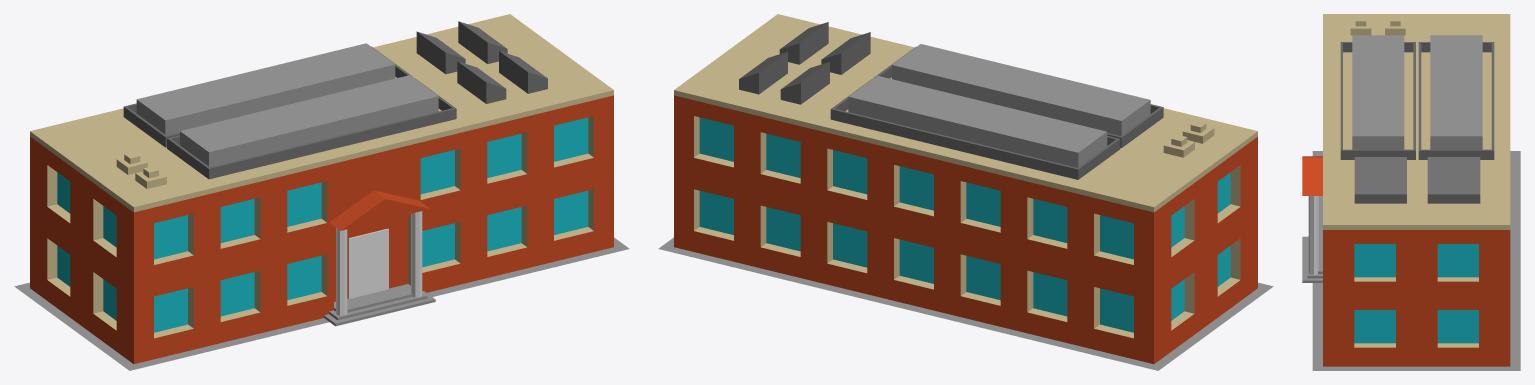
The model's file is brick-large.fbx.
The picture shows the model from 3 angles, left to right: view 1: azimuth 30°, elevation 25°; view 2: azimuth 150°, elevation 25°; view 3: azimuth 270°, elevation 25°; orthographic projection. The views are drawn at different scales.
Parts seen in each view (by area): view 1: brick-large; view 2: brick-large; view 3: brick-large.
Part boxes in pixels (left/top/right/bottom): brick-large: left=14, top=14, right=629, bottom=370; brick-large: left=658, top=14, right=1273, bottom=370; brick-large: left=1302, top=14, right=1520, bottom=370.
Size of the model in its own units: 500 by 171 by 210.
